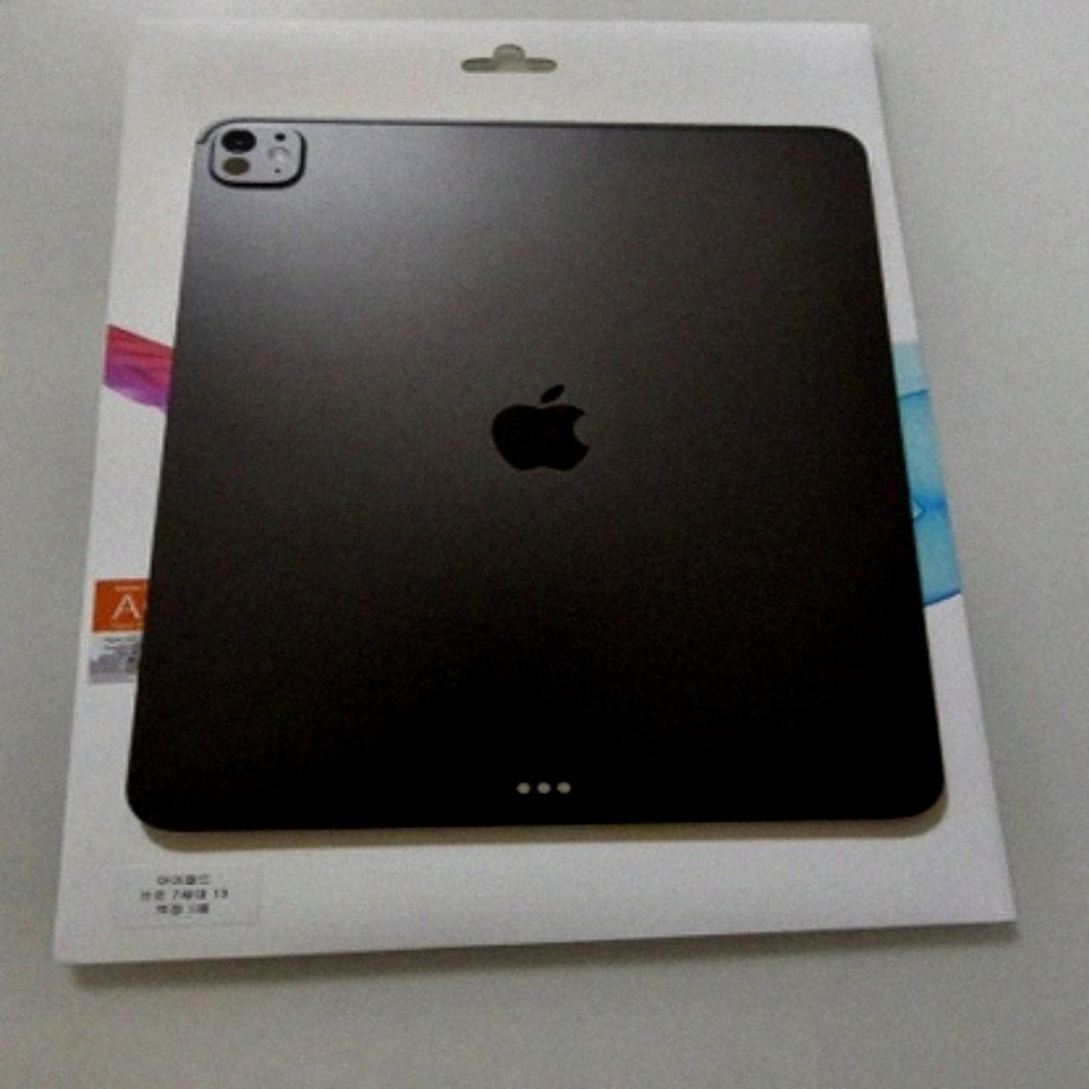Tablet_PC: (120, 107, 965, 856)
